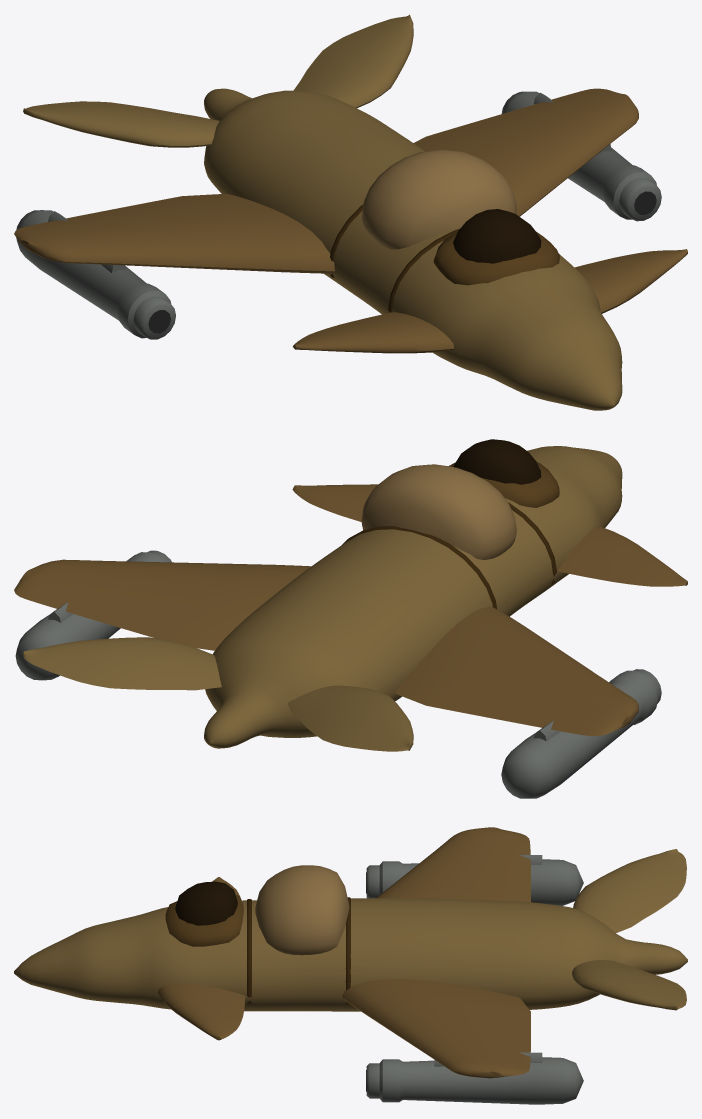
File: tan_fighter.glb
3 views of the same model, one above another, from view 1: azimuth 30°, elevation 25°; view 2: azimuth 150°, elevation 25°; view 3: azimuth 270°, elevation 25° (orthographic). The views are drawn at different scales.
Visible parts, largest first — view 1: fuselage, wing_l, wing_r, dome, tail_r, tail_l, gun_l, canard_l, gun_r, glass, canard_r, frame; view 2: fuselage, wing_l, wing_r, dome, tail_r, gun_l, tail_l, canard_l, gun_r, glass, canard_r, frame (+1 smaller); view 3: fuselage, wing_r, wing_l, gun_r, dome, tail_l, tail_r, canard_r, gun_l, glass, frame, seam1.
Part boxes in pixels (x1,y1,x2,y2): fuselage: [204, 88, 622, 410]; wing_l: [14, 194, 334, 273]; wing_r: [413, 88, 638, 216]; dome: [361, 150, 516, 249]; tail_r: [293, 14, 413, 108]; tail_l: [23, 101, 219, 147]; gun_l: [16, 210, 175, 339]; canard_l: [292, 312, 454, 353]; gun_r: [501, 91, 661, 221]; glass: [453, 209, 541, 263]; canard_r: [574, 249, 687, 313]; frame: [433, 231, 559, 285]; fuselage: [204, 446, 622, 748]; wing_l: [394, 606, 638, 736]; wing_r: [14, 559, 310, 650]; dome: [361, 464, 516, 559]; tail_r: [23, 637, 221, 690]; gun_l: [501, 669, 661, 798]; tail_l: [287, 685, 413, 751]; canard_l: [557, 526, 687, 586]; gun_r: [15, 550, 171, 680]; glass: [453, 439, 541, 484]; canard_r: [292, 484, 377, 521]; frame: [448, 461, 559, 507]; fuselage: [14, 898, 687, 1011]; wing_r: [342, 979, 530, 1078]; wing_l: [376, 827, 530, 902]; gun_r: [366, 1057, 583, 1104]; dome: [255, 865, 349, 955]; tail_l: [573, 849, 686, 932]; tail_r: [572, 960, 686, 1010]; canard_r: [157, 983, 245, 1040]; gun_l: [366, 859, 583, 905]; glass: [175, 881, 237, 925]; frame: [165, 895, 243, 946]; seam1: [247, 899, 251, 1004].
Bounding box in the file's own units: 22.28 × 5.54 × 25.9.
